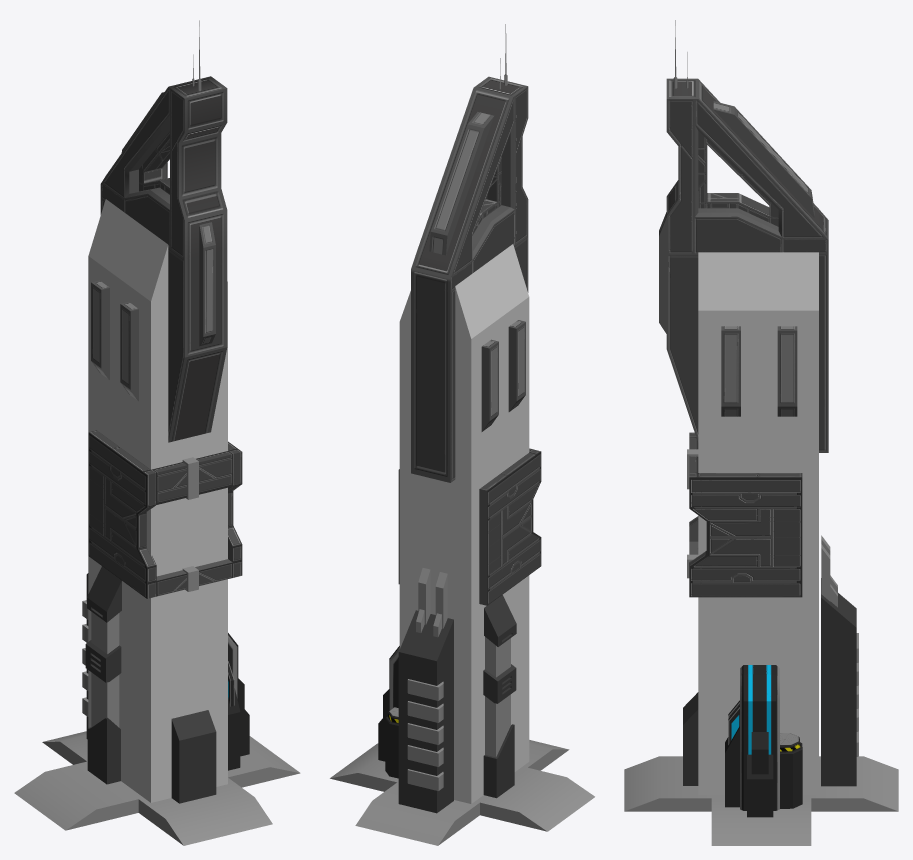
Rendered from building5_new2.fbx.
The picture shows the model from 3 angles, left to right: view 1: azimuth 30°, elevation 25°; view 2: azimuth 150°, elevation 25°; view 3: azimuth 270°, elevation 25°; orthographic projection. The views are drawn at different scales.
Parts seen in each view (by area): view 1: polySurface1102; view 2: polySurface1102; view 3: polySurface1102.
Boxes of the visible parts, box(x1,y1,x2,y2) form: polySurface1102: box(14, 20, 300, 845); polySurface1102: box(330, 24, 594, 845); polySurface1102: box(624, 20, 898, 845).
Size of the model in its own units: 22.18 by 72.24 by 23.17.
